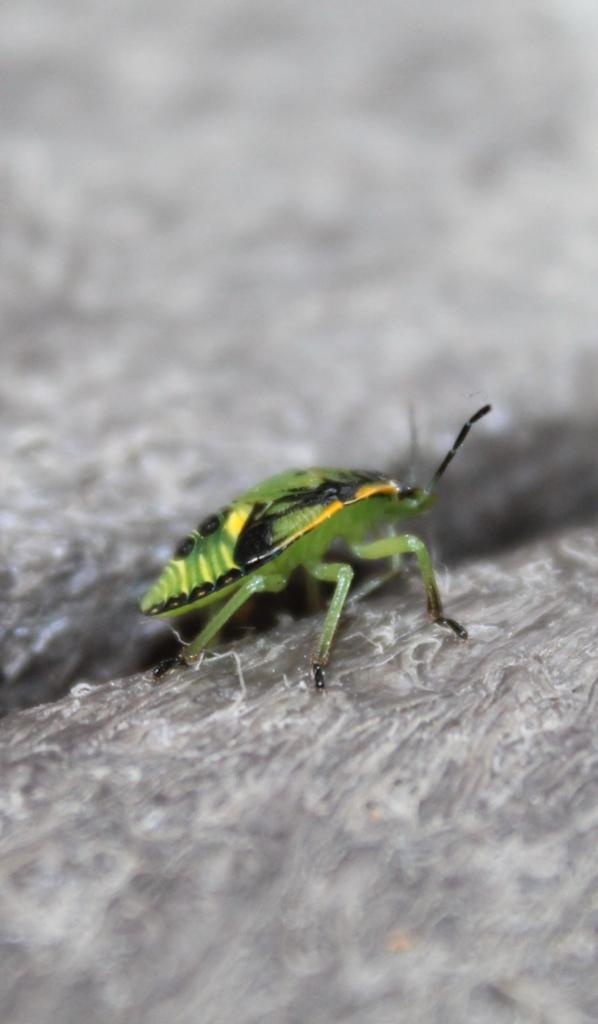stink_bugs: (94, 357, 530, 745)
